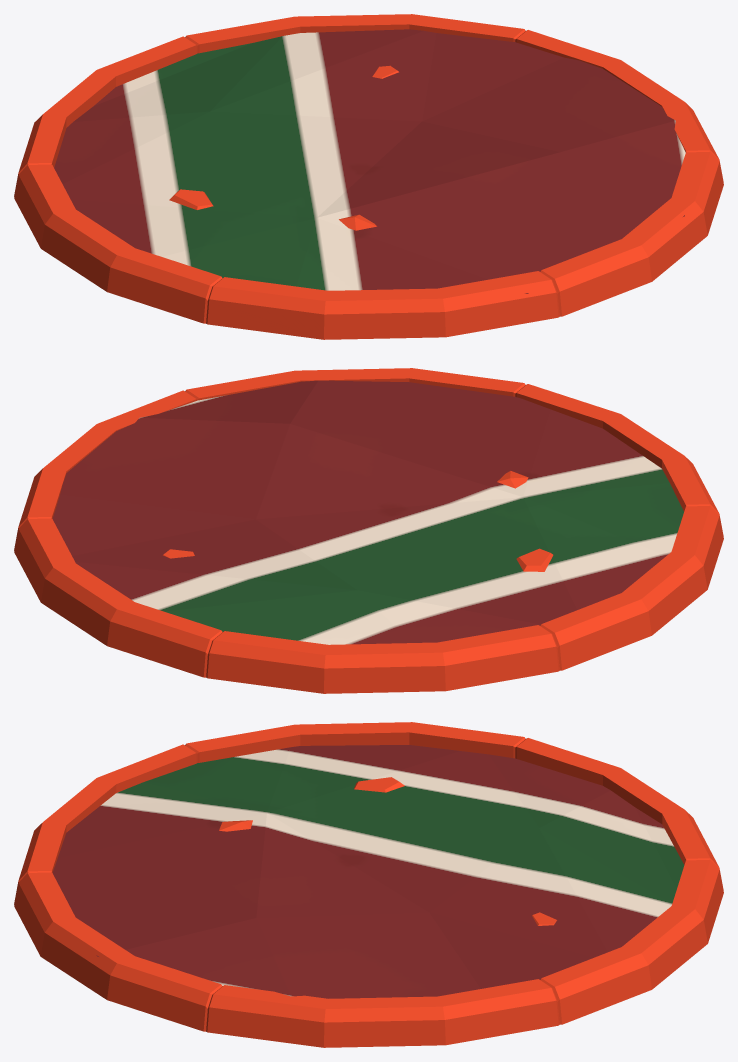
File: SM_Tree_Pot_City.fbx
3 renders of one model, top to bottom at view 1: azimuth 30°, elevation 25°; view 2: azimuth 150°, elevation 25°; view 3: azimuth 270°, elevation 25°, orthographic.
Parts seen in each view (by area): view 1: SM_Tree_Pot_City; view 2: SM_Tree_Pot_City; view 3: SM_Tree_Pot_City.
Part boxes in pixels (x1,y1,x2,y2): SM_Tree_Pot_City: (14, 14, 723, 339); SM_Tree_Pot_City: (14, 368, 723, 693); SM_Tree_Pot_City: (14, 722, 723, 1047).
Size of the model in its own units: 2.1 by 0.1532 by 2.11.
